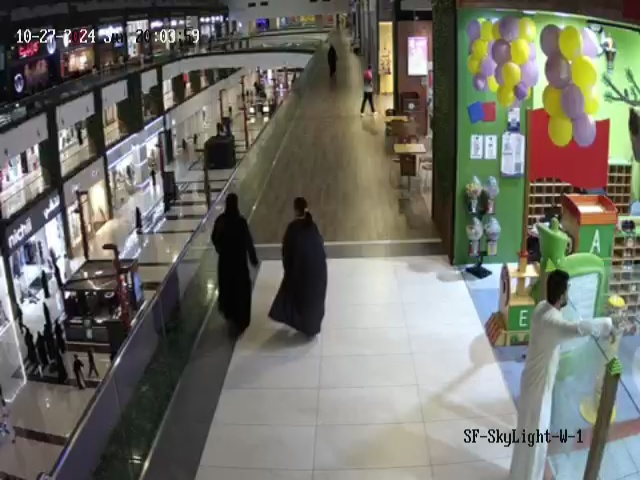female: (508, 269, 618, 479), (267, 196, 328, 341), (210, 193, 260, 339), (51, 344, 70, 383), (19, 323, 35, 369), (38, 300, 57, 332), (55, 318, 69, 351), (36, 327, 45, 370), (327, 44, 338, 78), (146, 165, 159, 193), (39, 270, 52, 295)
male: (0, 394, 23, 444), (360, 64, 377, 116), (71, 353, 89, 394), (85, 348, 99, 378)
